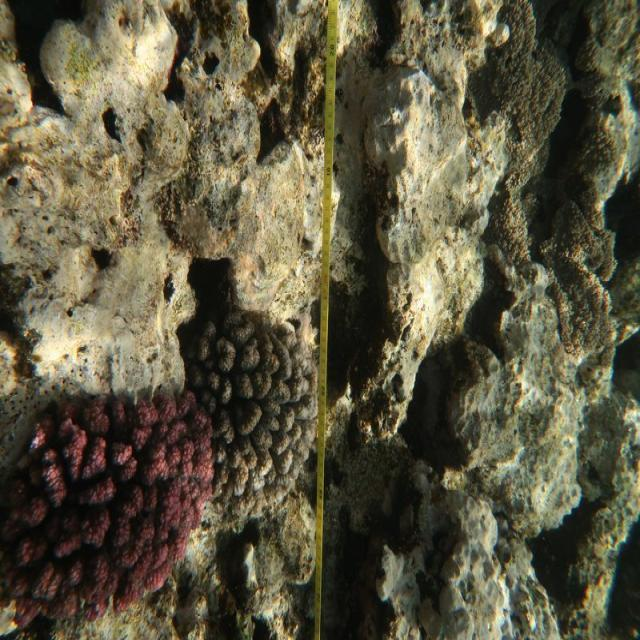Healthy Coral: (0, 375, 212, 639)
